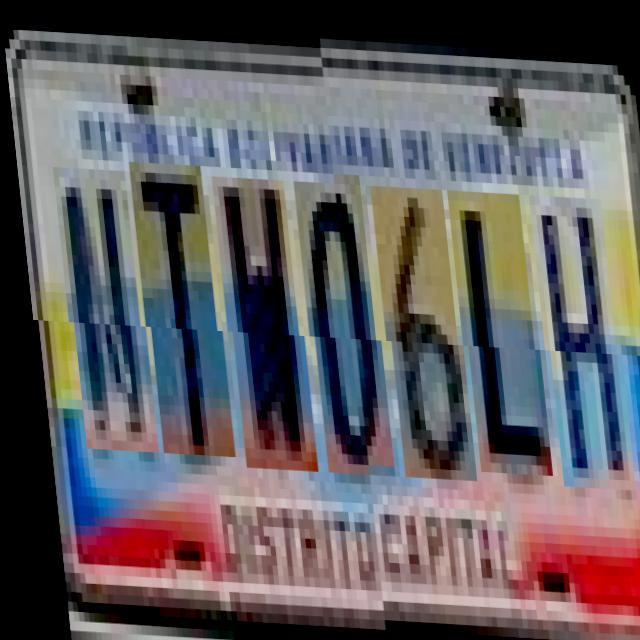6: (372, 192, 468, 486)
H: (532, 199, 626, 493)
L: (449, 195, 544, 479)
N: (55, 167, 149, 451)
O: (296, 178, 386, 472)
T: (130, 160, 226, 454)
W: (214, 174, 308, 468)
